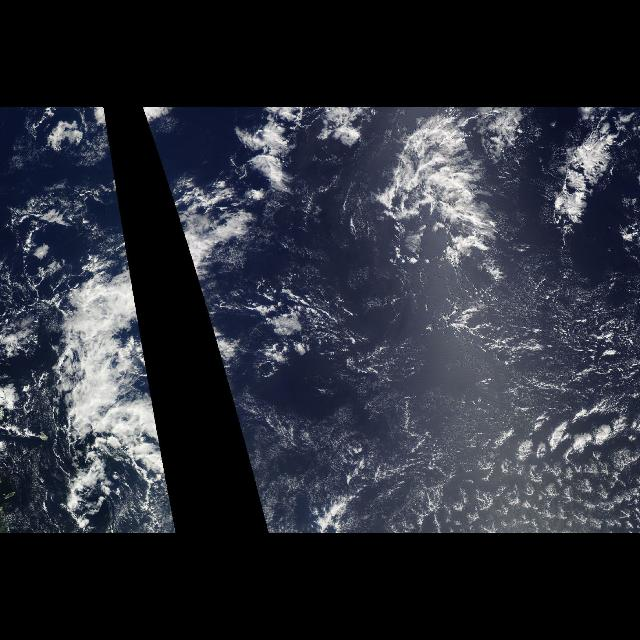Flower: (388, 416, 640, 534)
Gravel: (354, 344, 636, 530)
Sugar: (302, 251, 640, 534)
